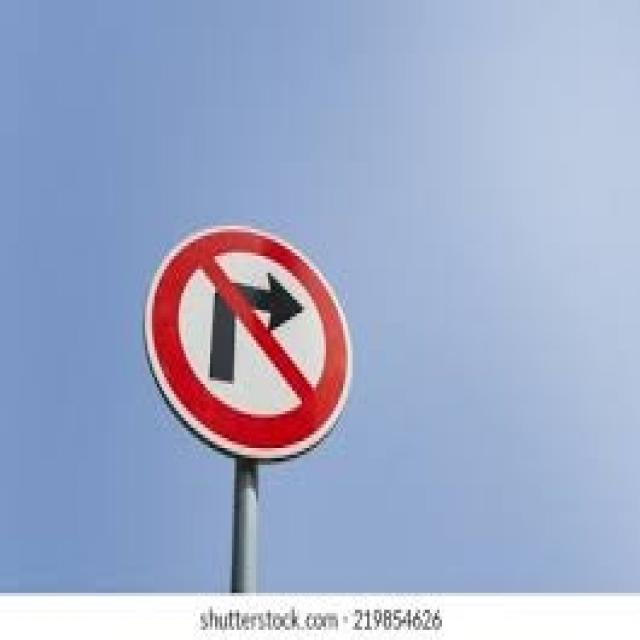do_not_turn_right: (143, 221, 360, 464)
